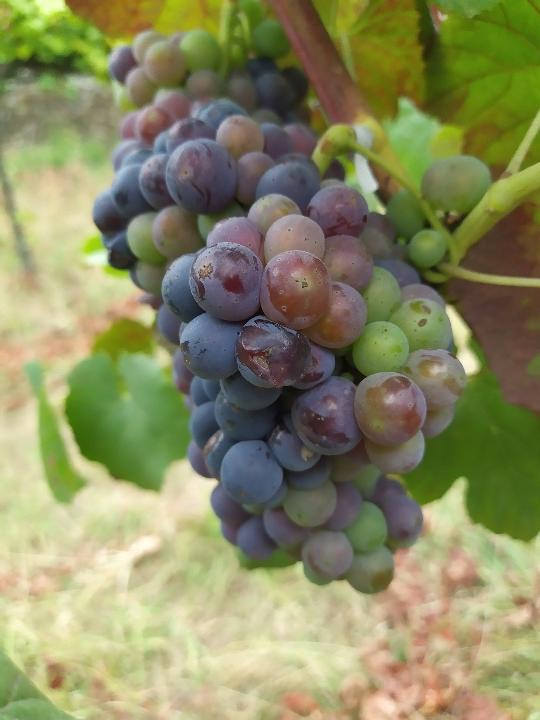grape: (153, 112, 471, 598)
